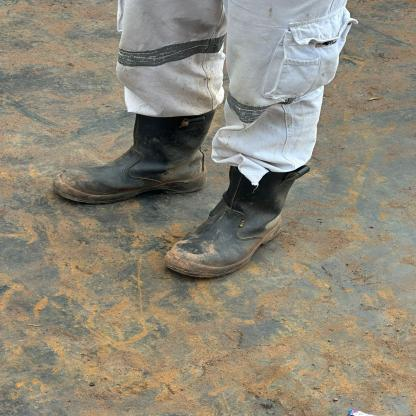bota: (158, 164, 310, 286), (41, 112, 210, 200)
